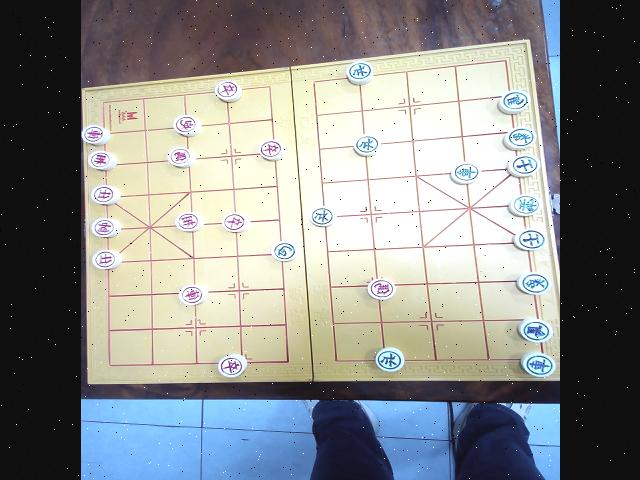piece: (521, 352, 555, 376), (498, 90, 530, 114), (519, 319, 552, 342), (507, 155, 540, 177), (517, 273, 551, 294), (504, 127, 536, 149), (375, 347, 404, 371), (513, 229, 546, 250), (509, 194, 540, 216), (218, 354, 247, 377), (451, 163, 481, 184), (347, 60, 373, 84), (367, 278, 395, 300), (173, 115, 202, 136), (215, 80, 242, 102), (91, 218, 122, 237), (88, 150, 117, 170), (91, 185, 120, 205), (167, 147, 196, 167), (92, 250, 122, 269), (353, 135, 380, 156), (259, 139, 286, 160), (82, 125, 110, 145), (175, 212, 204, 231), (179, 285, 208, 304), (222, 213, 250, 232), (271, 242, 298, 261), (309, 207, 336, 226)
